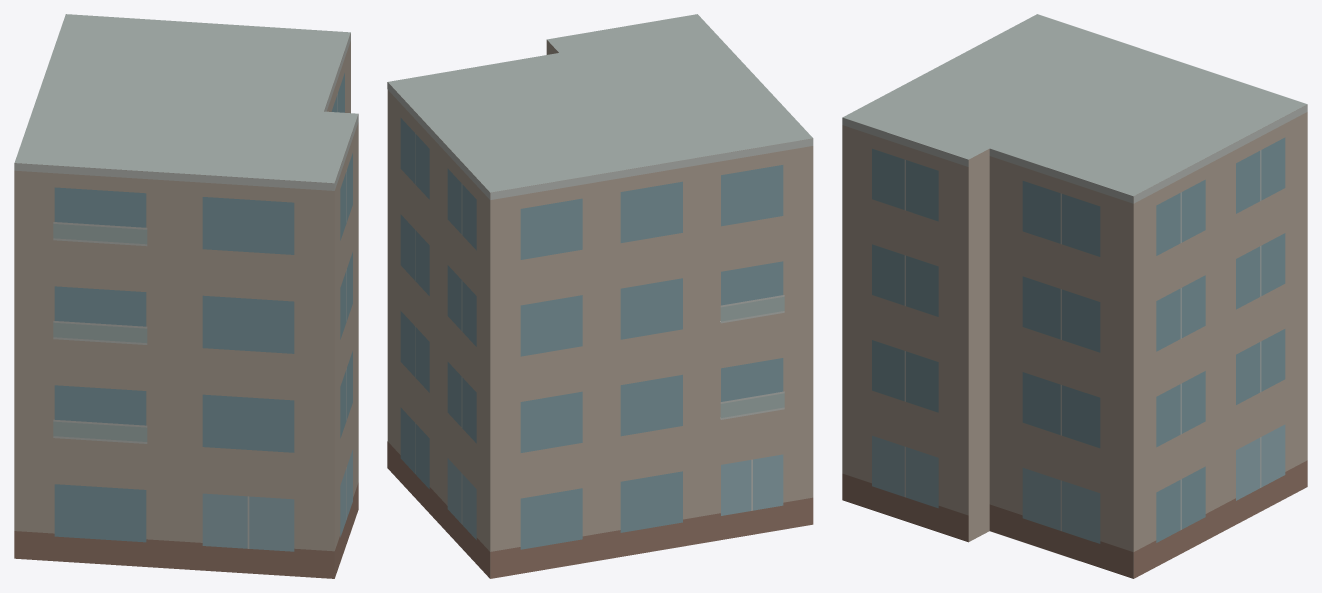
File: survey-upis-32932877.glb
The picture shows the model from 3 angles, left to right: view 1: azimuth 30°, elevation 25°; view 2: azimuth 150°, elevation 25°; view 3: azimuth 270°, elevation 25°; orthographic projection. The views are drawn at different scales.
Parts seen in each view (by area): view 1: survey-upis-32932877.tmp; view 2: survey-upis-32932877.tmp; view 3: survey-upis-32932877.tmp.
Part boxes in pixels (bbox=[...]): survey-upis-32932877.tmp: bbox=[14, 14, 358, 578]; survey-upis-32932877.tmp: bbox=[387, 14, 813, 578]; survey-upis-32932877.tmp: bbox=[842, 14, 1307, 578].
Size of the model in its own units: 12.78 by 12.5 by 13.79.
